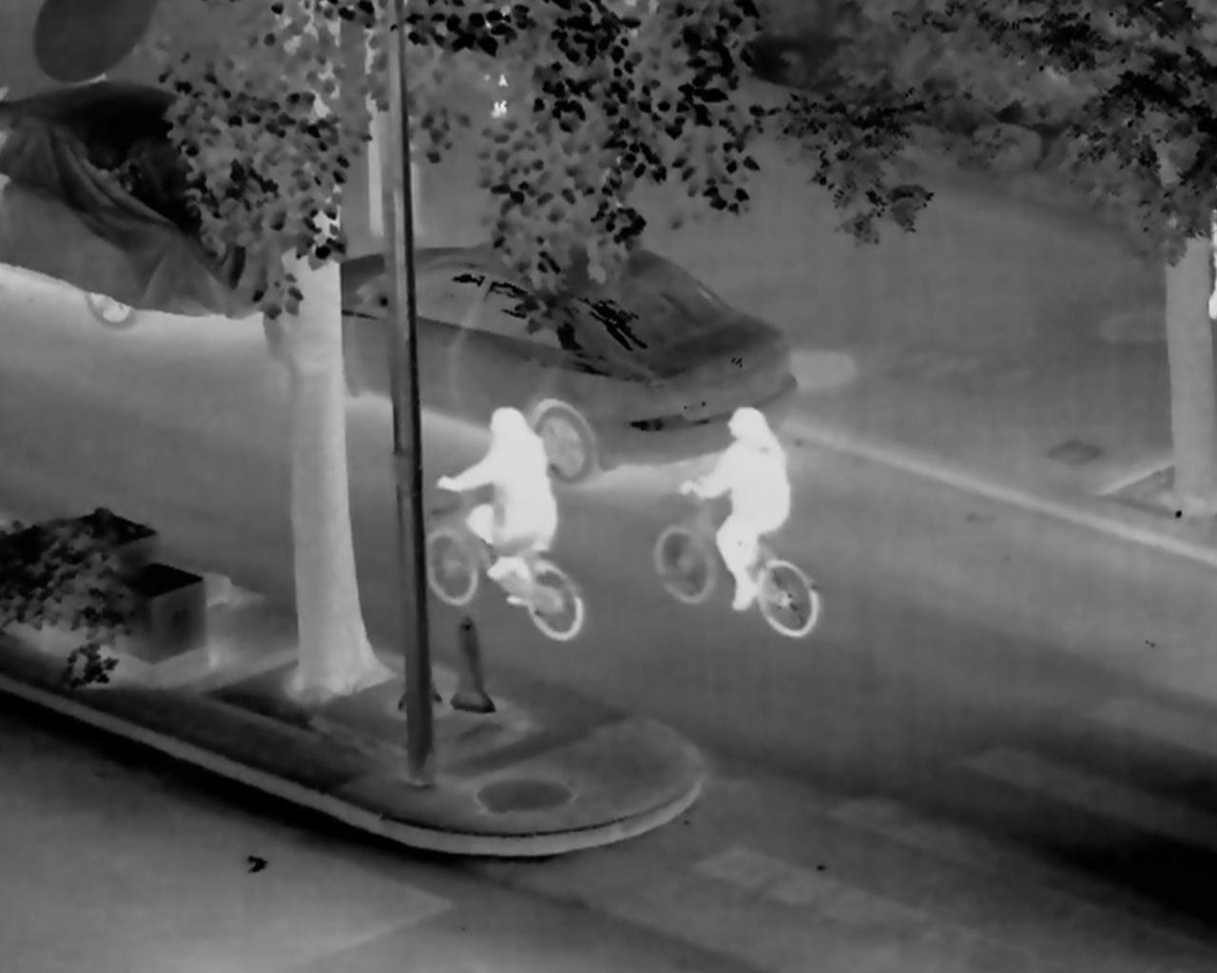person: (433, 408, 556, 595), (683, 408, 788, 611)
